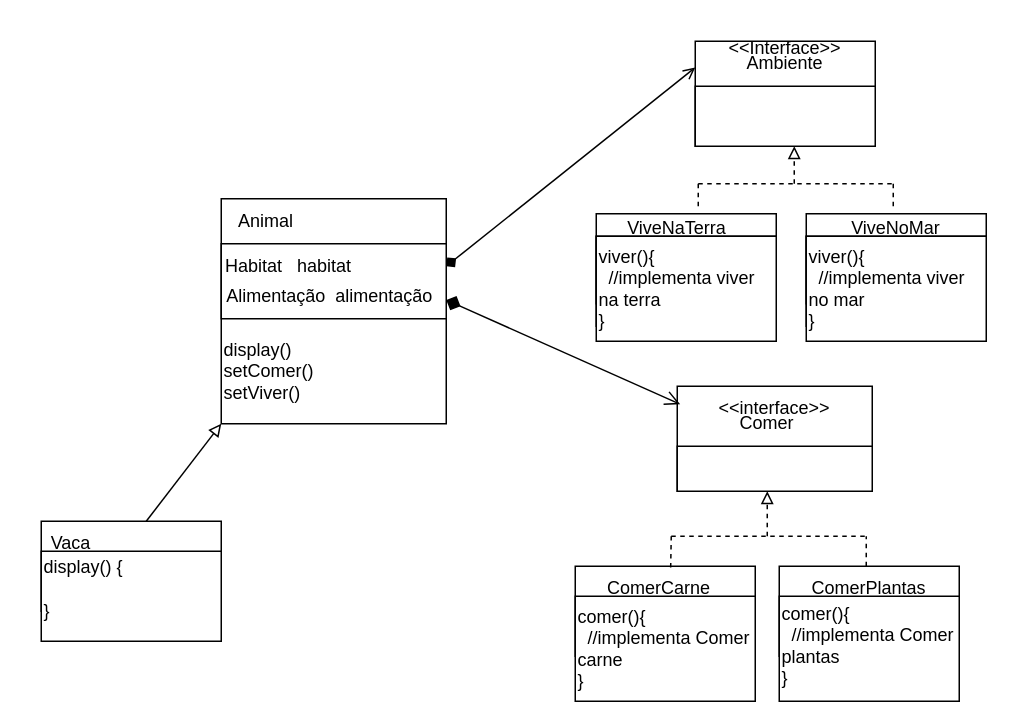
This 1013x728 diagram has some shape labels left out. Here are the shapes that lost their labels. From the top down, the box of each, then its label:
(694, 85, 875, 146): viver()
(676, 445, 872, 491): comer()
